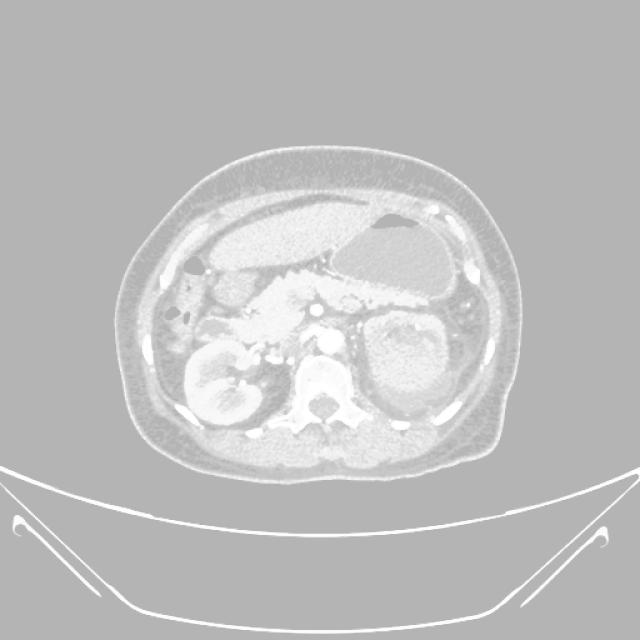TUMOR: (79, 177, 550, 400)
